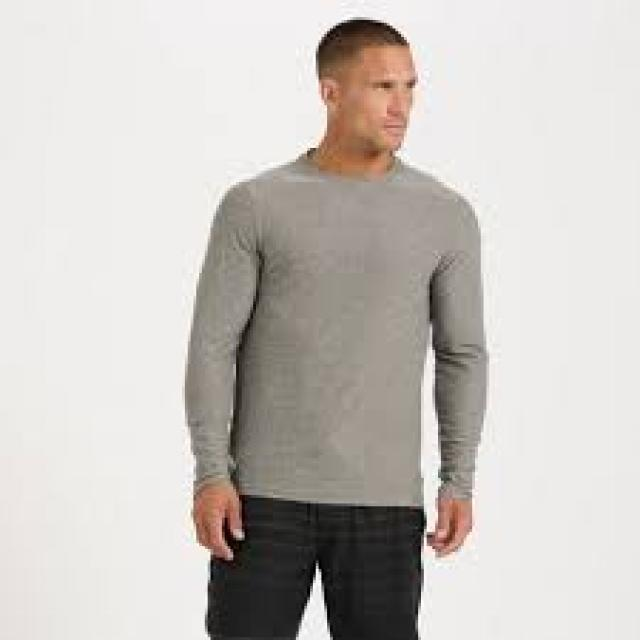plain: (192, 165, 486, 510)
